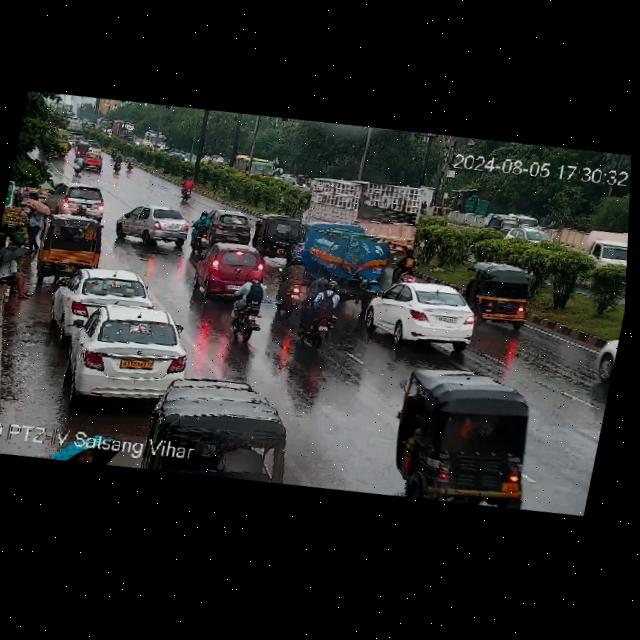bus: (226, 149, 275, 181), (139, 126, 168, 151)
car: (368, 350, 550, 517), (62, 297, 193, 416), (361, 272, 481, 351), (53, 263, 148, 334), (34, 209, 102, 284), (114, 193, 194, 251), (468, 261, 535, 330), (190, 240, 250, 301), (247, 204, 305, 261), (46, 177, 108, 222), (212, 209, 250, 245), (83, 149, 107, 172)
motorcycle: (293, 271, 344, 356), (226, 267, 270, 343), (269, 251, 309, 320), (189, 207, 219, 254), (179, 172, 197, 201), (71, 155, 84, 177), (113, 156, 124, 173), (127, 155, 137, 170)
person: (0, 253, 34, 302), (22, 200, 46, 253), (22, 191, 37, 214)
truck: (295, 168, 434, 275), (297, 216, 399, 294)
